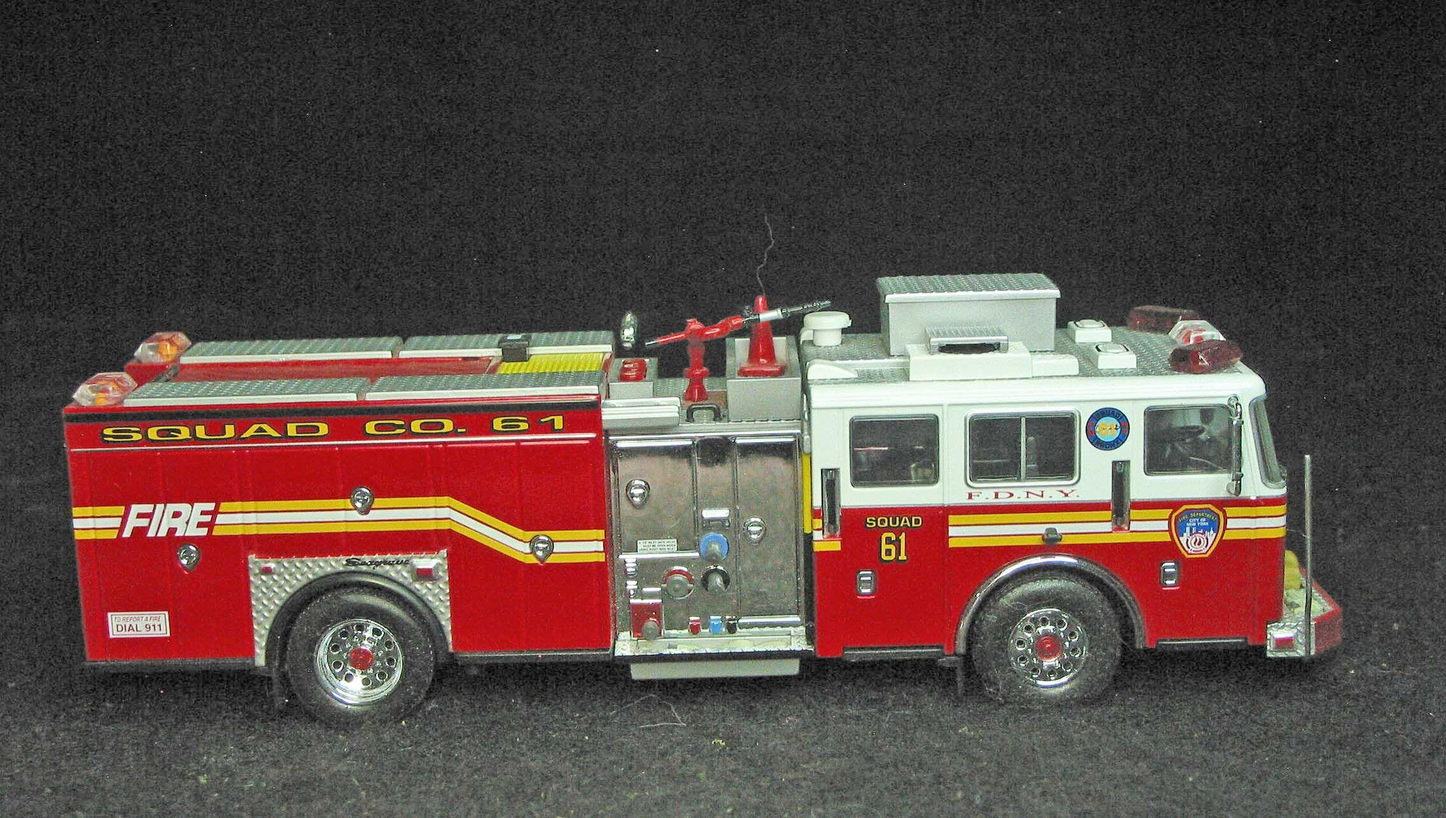Fire-engine: (61, 271, 1344, 725)
